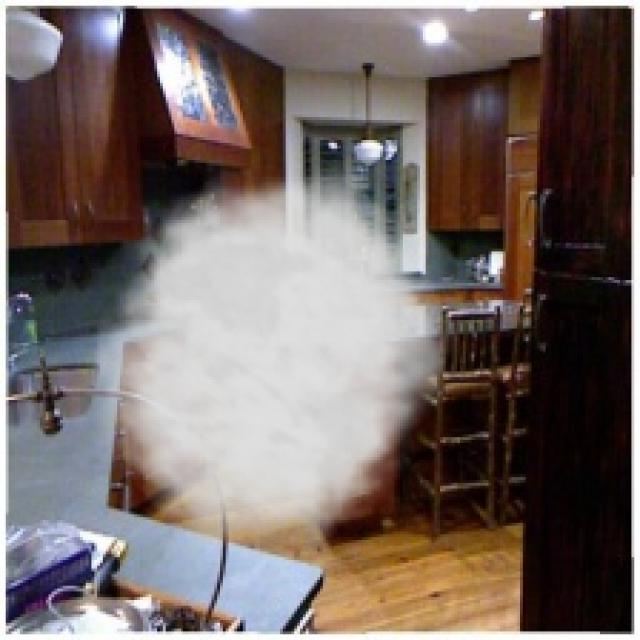smoke: (74, 155, 460, 554)
